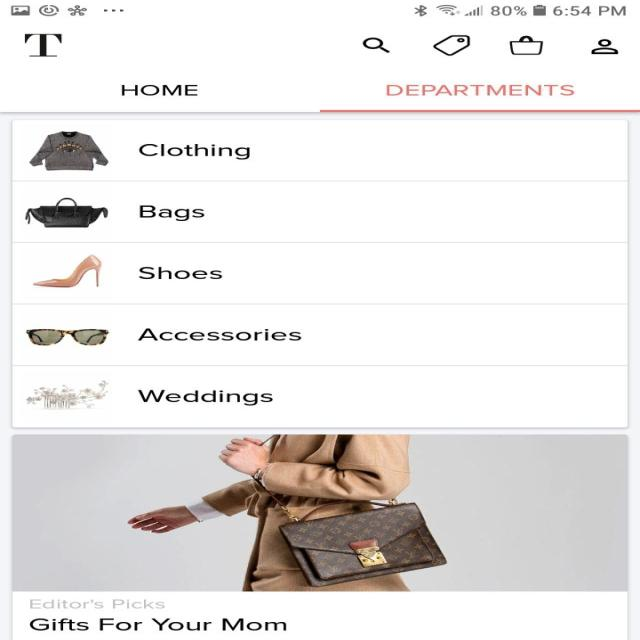Icon: (432, 35, 470, 56), (508, 36, 544, 56), (589, 38, 618, 55), (362, 38, 391, 53)
Image: (10, 434, 628, 591), (28, 130, 108, 170), (23, 197, 108, 228), (24, 380, 110, 410), (32, 254, 102, 288), (24, 328, 110, 346)
Text: (28, 618, 286, 630), (137, 389, 273, 406), (386, 84, 574, 95), (136, 328, 302, 340), (138, 144, 250, 160), (30, 598, 166, 608), (138, 204, 204, 222), (138, 266, 222, 279), (24, 34, 62, 57), (120, 85, 198, 96)
